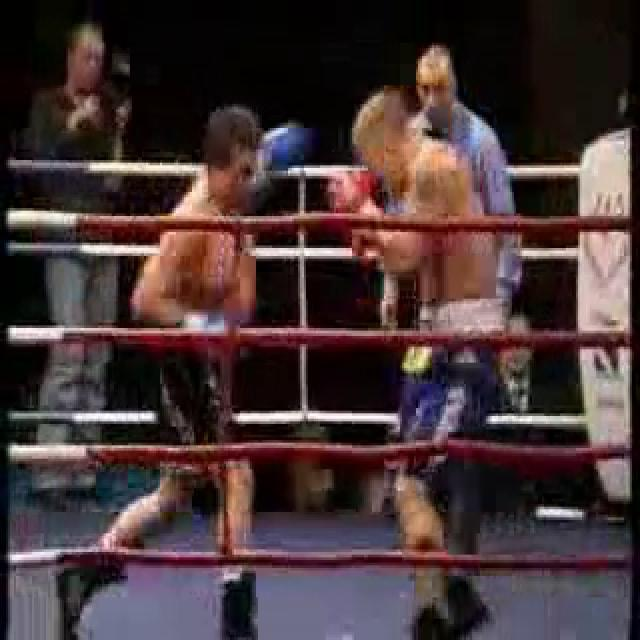non-violence: (30, 34, 127, 489), (376, 37, 521, 328), (495, 311, 556, 409), (290, 426, 337, 513)
violence: (60, 90, 496, 640)
